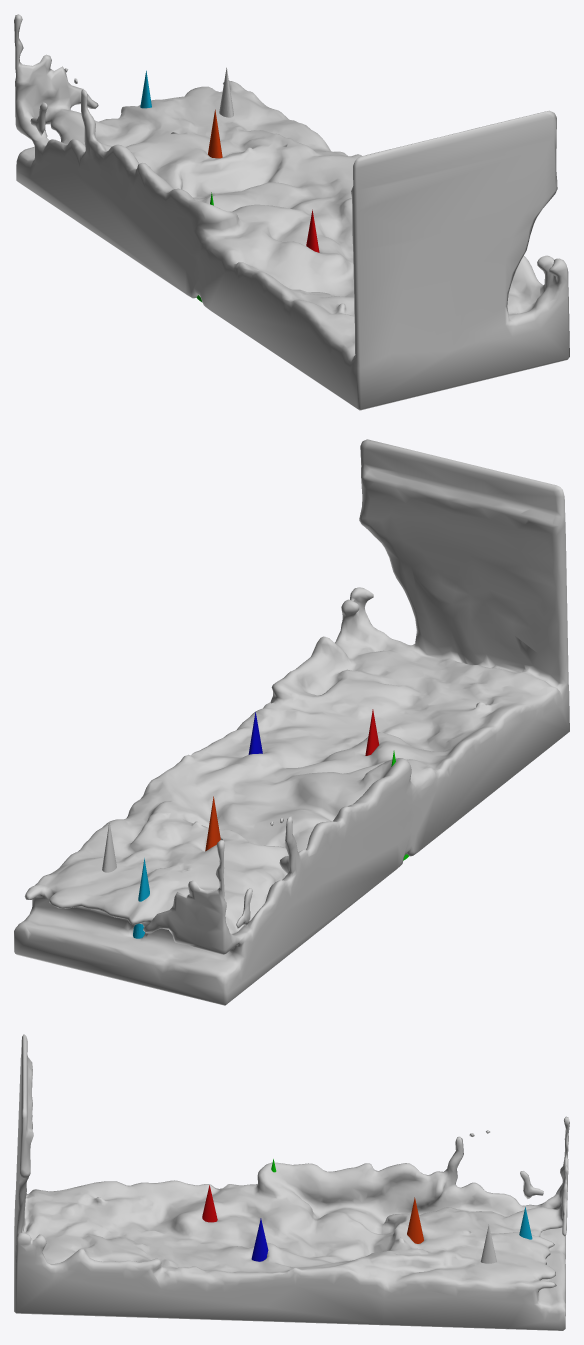
The picture shows the model from 3 angles, top to bottom: view 1: azimuth 30°, elevation 25°; view 2: azimuth 150°, elevation 25°; view 3: azimuth 270°, elevation 25°; orthographic projection. The views are drawn at different scales.
Visible parts, largest first — view 1: Liquid_Domain; view 2: Liquid_Domain; view 3: Liquid_Domain, 円錐.004, 円錐.002.
Boxes of the visible parts, <box> form: Liquid_Domain: <box>14,14,569,410</box>; Liquid_Domain: <box>14,439,569,1005</box>; Liquid_Domain: <box>14,1034,569,1330</box>; 円錐.004: <box>407,1197,423,1243</box>; 円錐.002: <box>251,1218,268,1261</box>.
Size of the model in its own units: 129 by 158 by 364.
